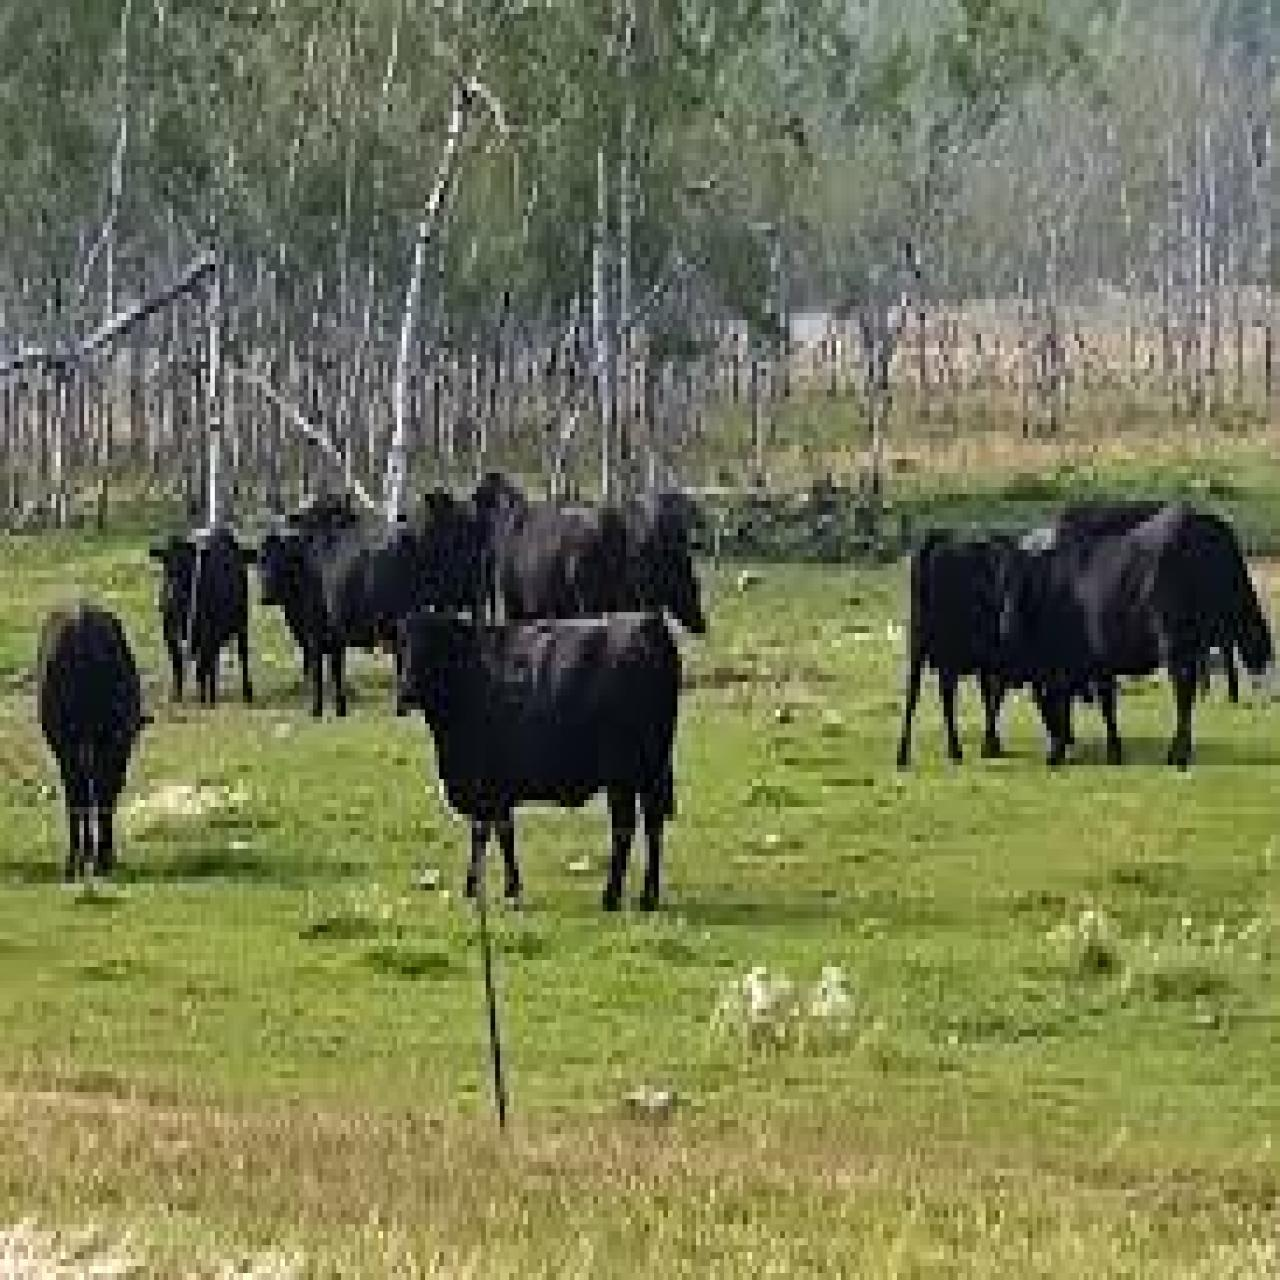cow: (393, 608, 678, 914), (993, 515, 1207, 765), (897, 536, 1080, 772), (38, 598, 150, 877), (157, 536, 259, 702)
